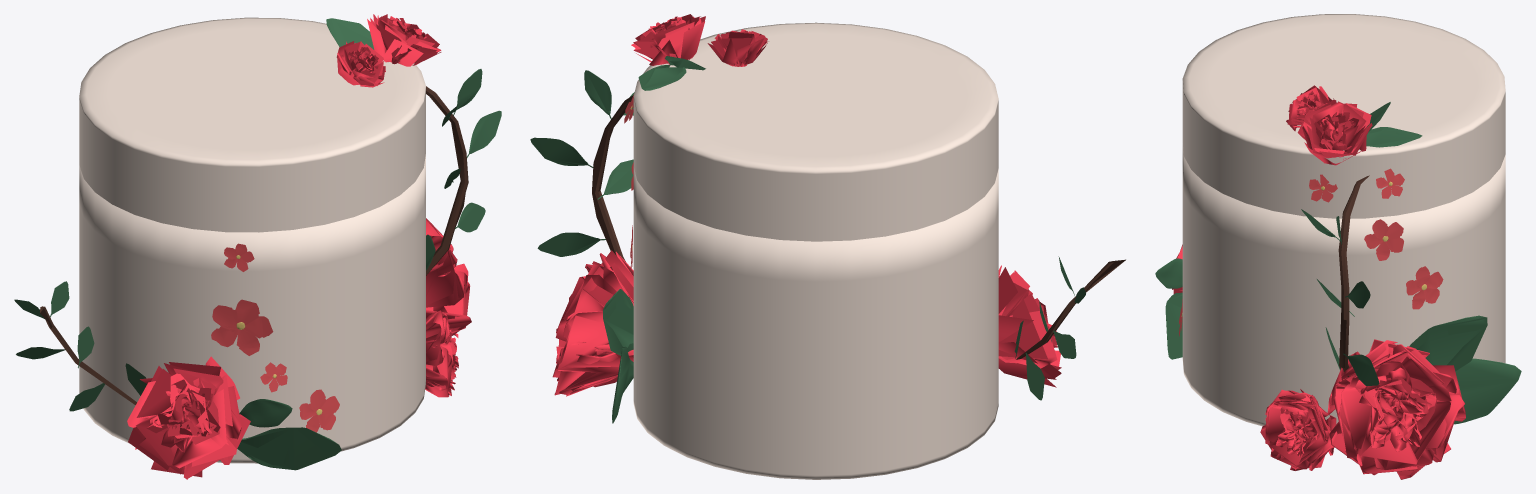
The model's file is 1-tier-white-roses-none.glb.
3 renders of one model, left to right at view 1: azimuth 30°, elevation 25°; view 2: azimuth 150°, elevation 25°; view 3: azimuth 270°, elevation 25°, orthographic. The views are drawn at different scales.
Visible parts, largest first — view 1: Cylinder.019, grid.039, Plane.083, Plane.074, Plane.075, grid.038, grid.041, grid.033, Sphere.050, grid.035, Sphere.054, Plane.073 (+3 smaller); view 2: Cylinder.019, grid.038, Plane.083, grid.039, grid.041, Plane.075, Plane.079, grid.035, Plane.086, Plane.080; view 3: Cylinder.019, grid.038, grid.033, grid.041, Plane.083, Plane.080, Plane.079, Sphere.057, Sphere.059, Plane.074, grid.035, Plane.086 (+3 smaller).
Boxes of the visible parts, x1,y1,x2,y2 form: Cylinder.019: [79, 17, 425, 463]; grid.039: [127, 356, 250, 479]; Plane.083: [426, 69, 501, 275]; Plane.074: [237, 427, 341, 470]; Plane.075: [14, 281, 147, 411]; grid.038: [426, 218, 471, 337]; grid.041: [367, 14, 441, 66]; grid.033: [425, 310, 458, 397]; Sphere.050: [211, 299, 273, 355]; grid.035: [336, 41, 385, 87]; Sphere.054: [299, 389, 339, 432]; Plane.073: [239, 399, 292, 427]; Cylinder.019: [633, 22, 998, 479]; grid.038: [552, 250, 633, 396]; Plane.083: [530, 70, 634, 261]; grid.039: [998, 265, 1061, 387]; grid.041: [631, 14, 705, 65]; Plane.075: [1014, 256, 1125, 400]; Plane.079: [603, 289, 633, 355]; grid.035: [707, 29, 768, 66]; Plane.086: [638, 65, 686, 90]; Plane.080: [612, 346, 633, 423]; Cylinder.019: [1182, 14, 1505, 426]; grid.038: [1327, 339, 1465, 479]; grid.033: [1260, 389, 1336, 470]; grid.041: [1297, 99, 1372, 165]; Plane.083: [1301, 175, 1379, 385]; Plane.080: [1454, 358, 1521, 424]; Plane.079: [1409, 315, 1487, 371]; Sphere.057: [1364, 219, 1403, 260]; Sphere.059: [1406, 266, 1443, 309]; Plane.074: [1165, 292, 1182, 359]; grid.035: [1286, 85, 1333, 131]; Plane.086: [1366, 127, 1422, 147].
Size of the model in its own units: 4.49 by 3.04 by 2.9.
